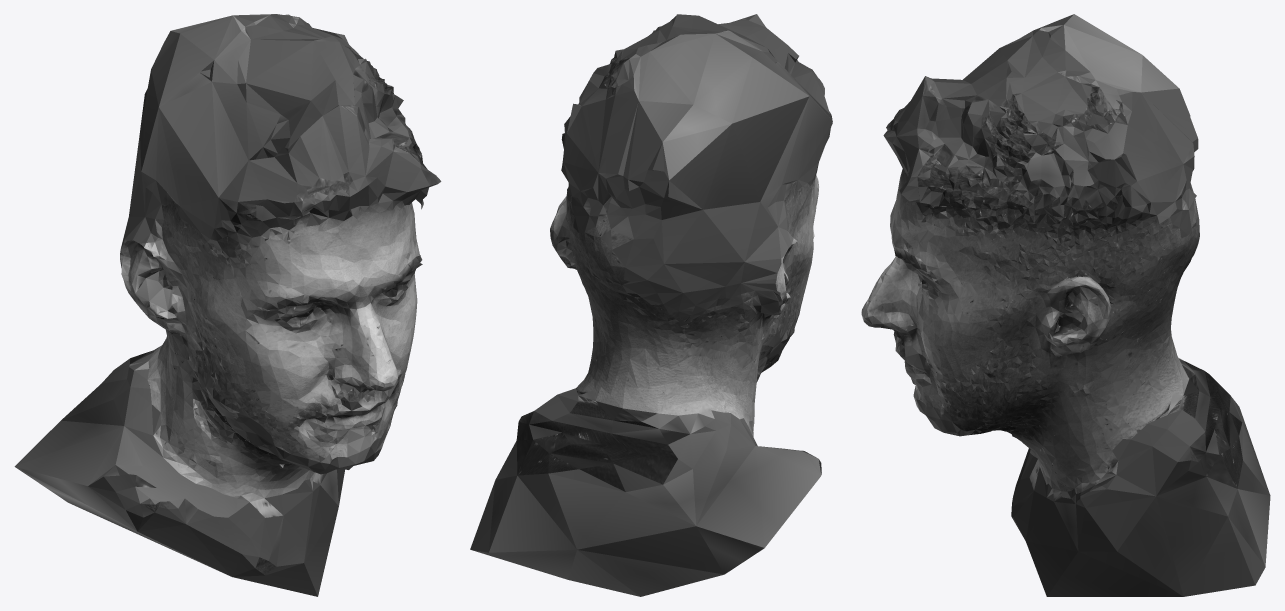
File: export_me_lowPoly.glb
The picture shows the model from 3 angles, left to right: view 1: azimuth 30°, elevation 25°; view 2: azimuth 150°, elevation 25°; view 3: azimuth 270°, elevation 25°; orthographic projection. The views are drawn at different scales.
Visible parts, largest first — view 1: export_me_lowPoly; view 2: export_me_lowPoly; view 3: export_me_lowPoly.
Boxes of the visible parts, box(x1,y1,x2,y2) form: export_me_lowPoly: box(14, 14, 441, 596); export_me_lowPoly: box(470, 14, 832, 596); export_me_lowPoly: box(861, 14, 1270, 596).
Size of the model in its own units: 1 by 1.87 by 1.29.
Materials: 1 (1 with a texture image).
